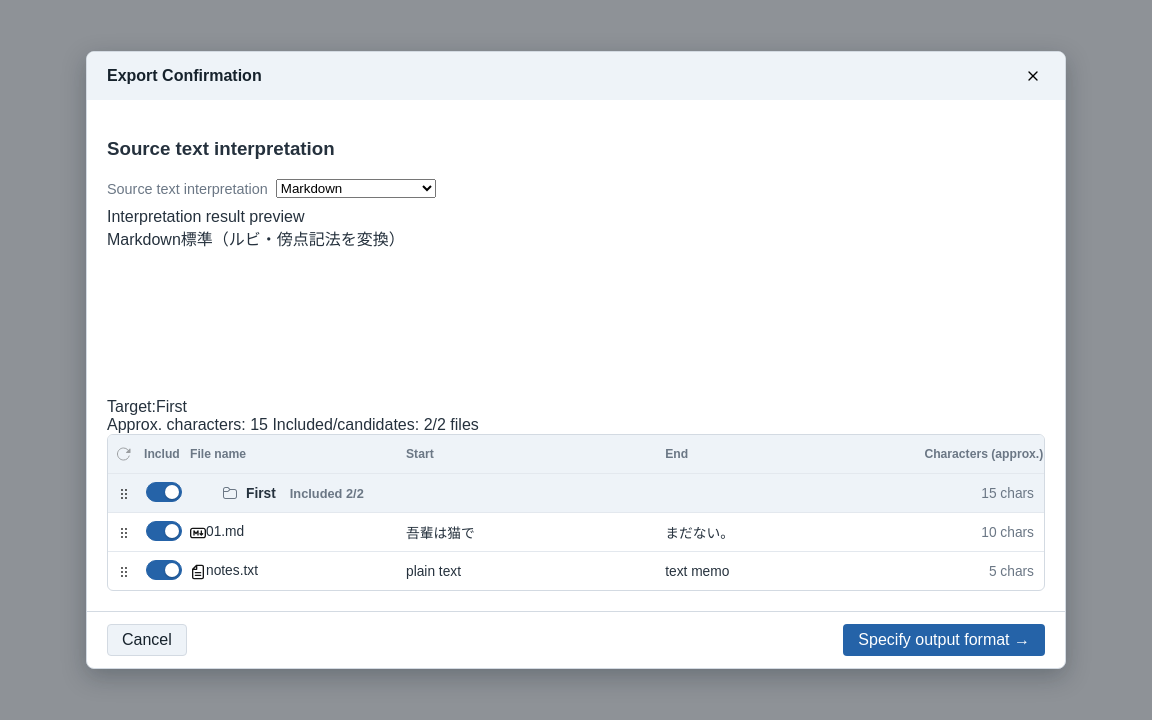
it: ExportConfirmationDialog (#523) › tracks candidate list dirty state and enables/disables reload button
Expected: the button named "Reload" is disabled, [112,442,136,466]
Click the checkbox named "Include 01.md" at (164, 531), box [144,520,184,542]
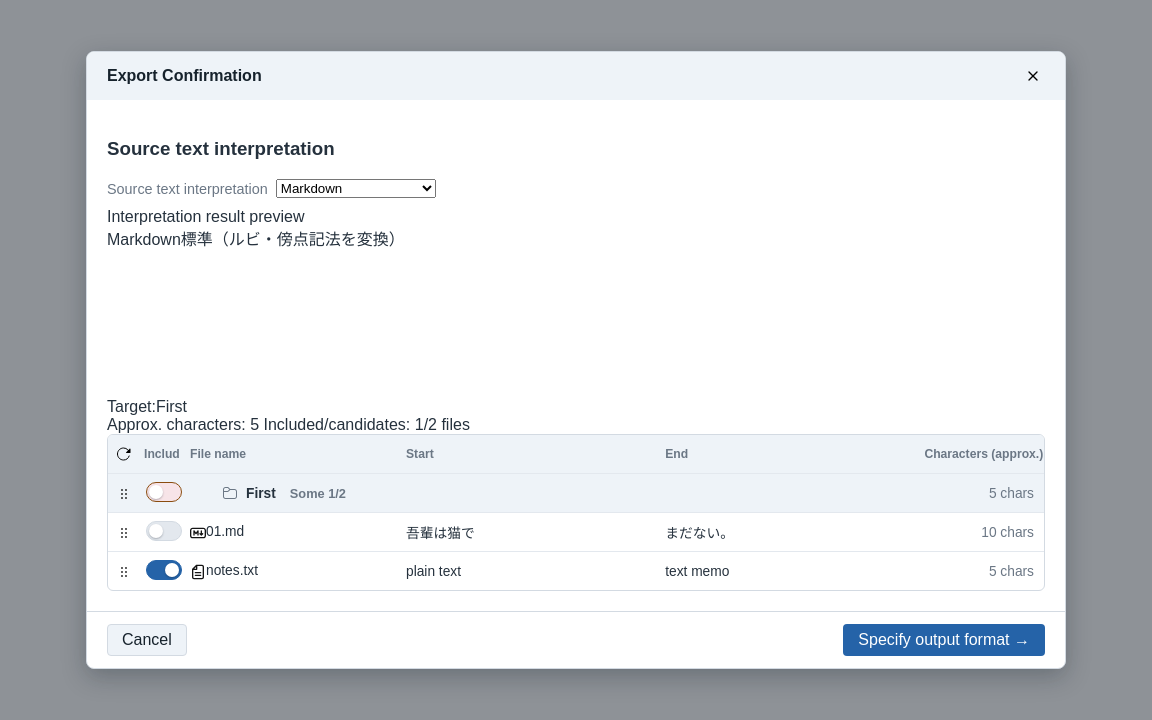
Result: the button named "Reload" is enabled at [112,442,136,466]
Click the checkbox named "Include 01.md" at (164, 531), box [144,520,184,542]
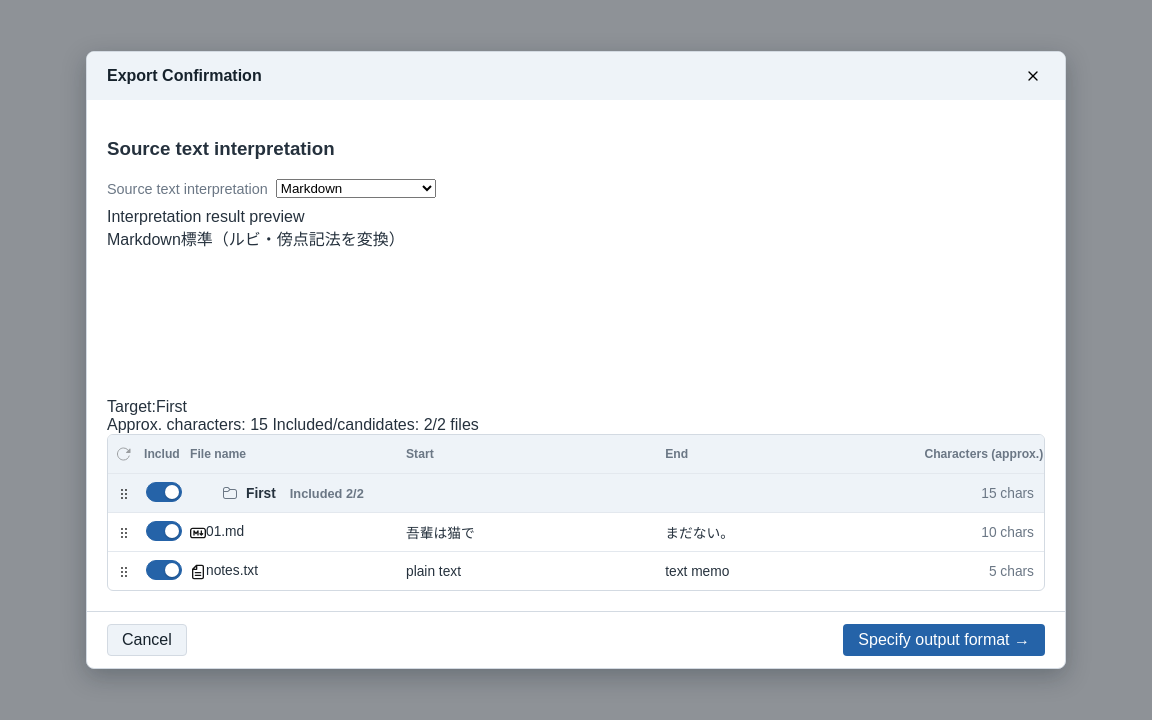
Result: the button named "Reload" is disabled at [112,442,136,466]
